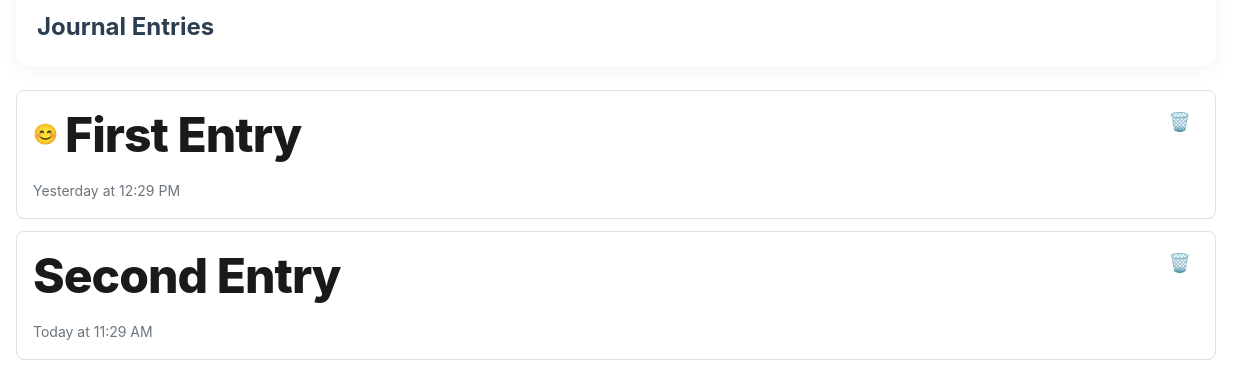
Test: EntryList › should hide confirmation dialog when delete is cancelled
Note: Click delete button
Step 1. Click the button named "delete entry:" → (1180, 122), box [1160, 107, 1199, 136]
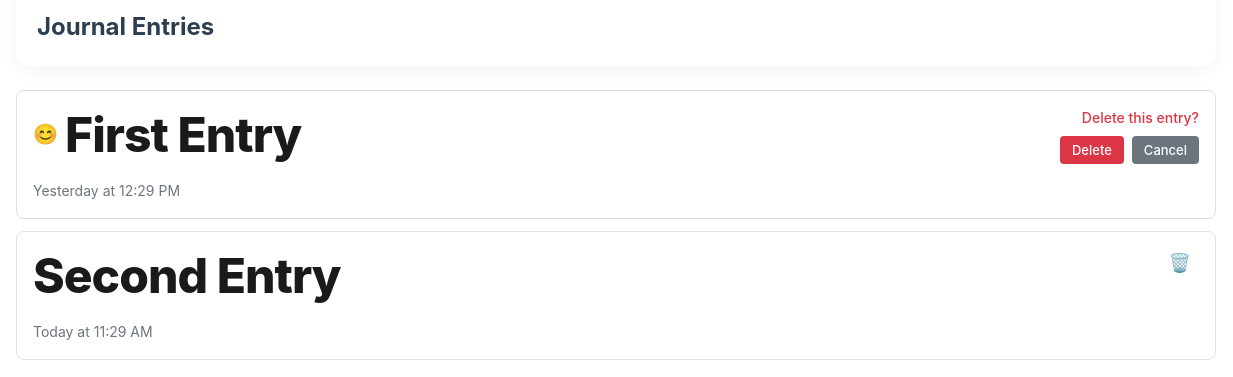
Note: Cancel deletion
Step 2. Click the button with aria-label "cancel delete" → (1165, 150), box [1132, 136, 1199, 164]
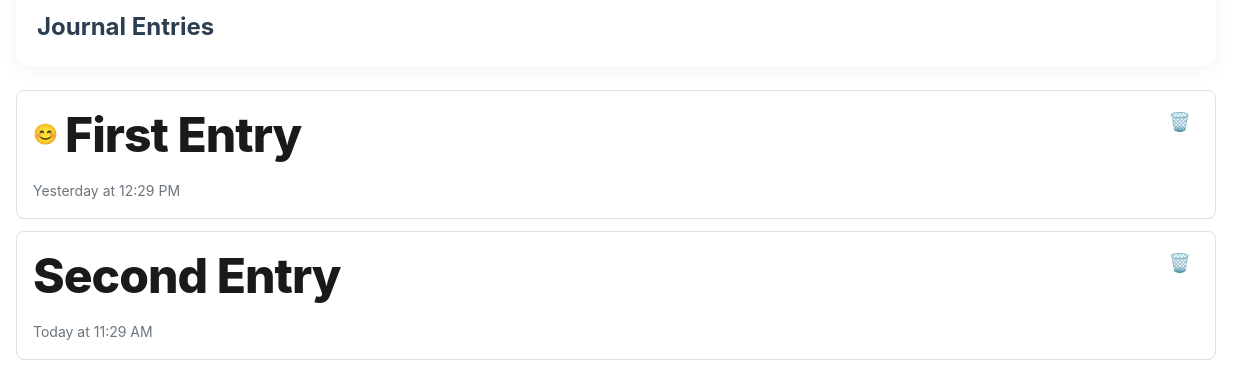
Result: the text "Delete this entry?" is gone
